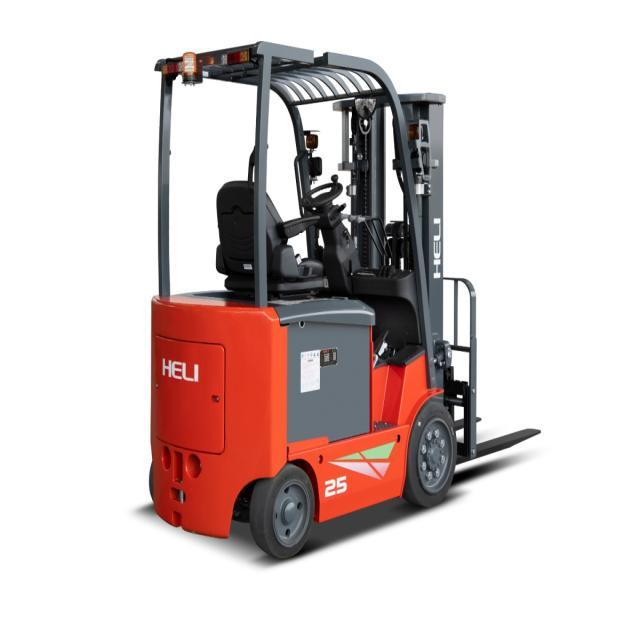forklift: (136, 20, 486, 577)
